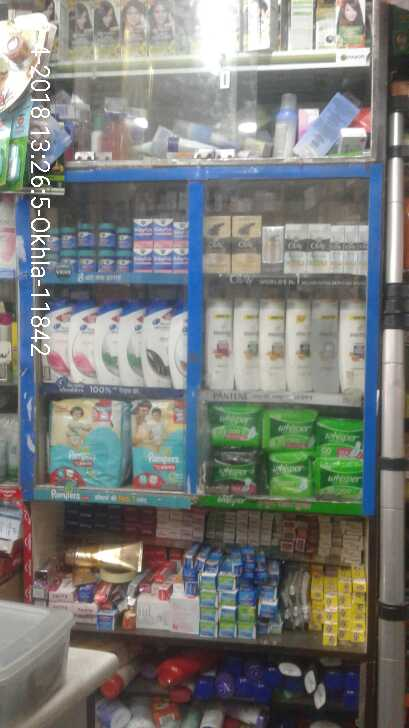vicks: (47, 215, 193, 273)
